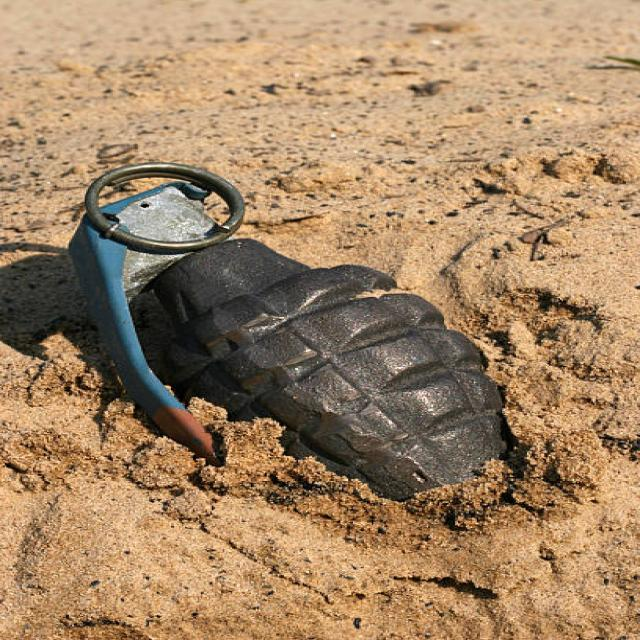grenade: (60, 159, 539, 499)
